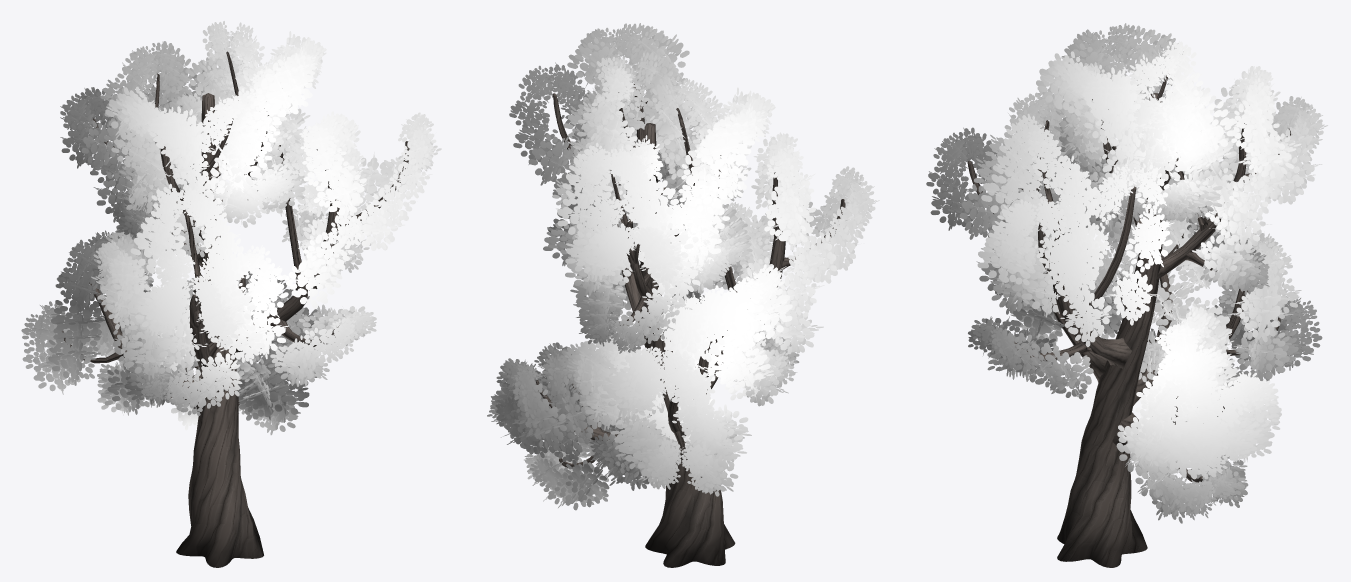
The model's file is TwistedTree_3.gltf.
3 renders of one model, left to right at view 1: azimuth 30°, elevation 25°; view 2: azimuth 150°, elevation 25°; view 3: azimuth 270°, elevation 25°, orthographic. The views are drawn at different scales.
Visible parts, largest first — view 1: TwistedTree_3; view 2: TwistedTree_3; view 3: TwistedTree_3.
Part boxes in pixels (x1,y1,x2,y2): TwistedTree_3: (21,21,441,567); TwistedTree_3: (487,23,879,567); TwistedTree_3: (926,23,1327,567).
Bounding box in the file's own units: 11.36 × 16.07 × 11.51.
2 materials, 2 textured.
